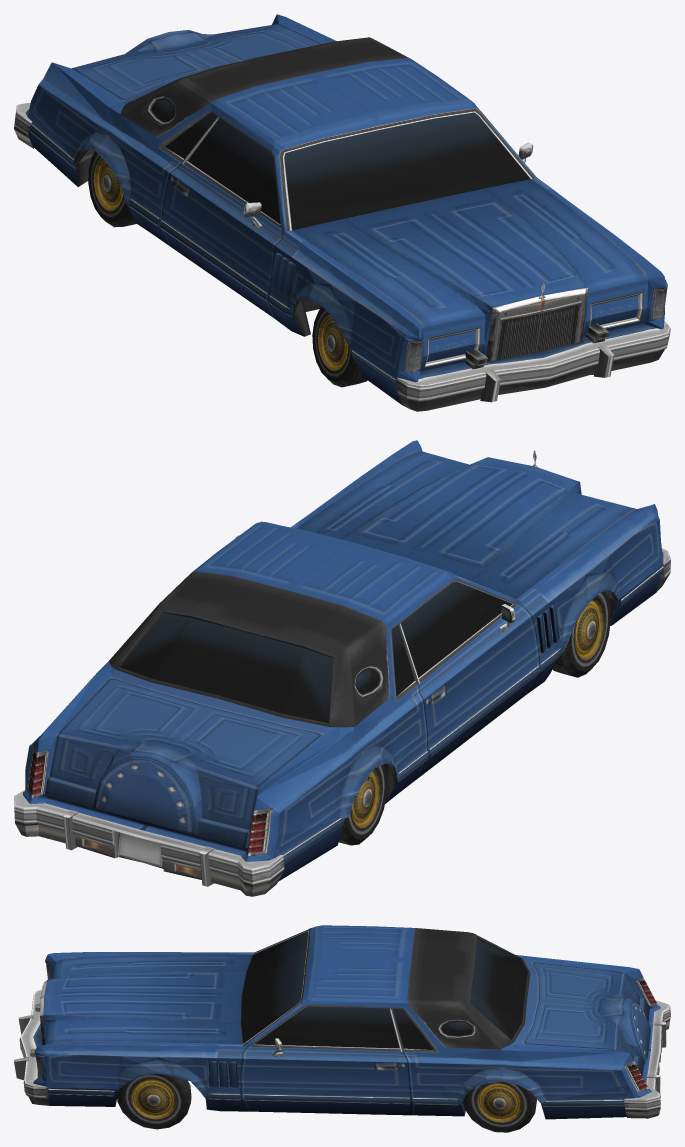
Rendered from car_4_low_rider.glb.
3 renders of one model, top to bottom at view 1: azimuth 30°, elevation 25°; view 2: azimuth 150°, elevation 25°; view 3: azimuth 270°, elevation 25°, orthographic. The views are drawn at different scales.
Parts seen in each view (by area): view 1: Object_4, Object_2, Object_3; view 2: Object_4, Object_2; view 3: Object_4, Object_2.
Part boxes in pixels (box(x1,y1,x2,y2)): Object_4: box(14, 14, 670, 411); Object_2: box(88, 151, 367, 387); Object_3: box(465, 323, 608, 369); Object_4: box(14, 440, 670, 896); Object_2: box(338, 591, 610, 845); Object_4: box(14, 925, 670, 1119); Object_2: box(117, 1073, 536, 1132).
Bounding box in the file's own units: 41.54 × 23.26 × 105.
Materials: 3 (3 with a texture image).
